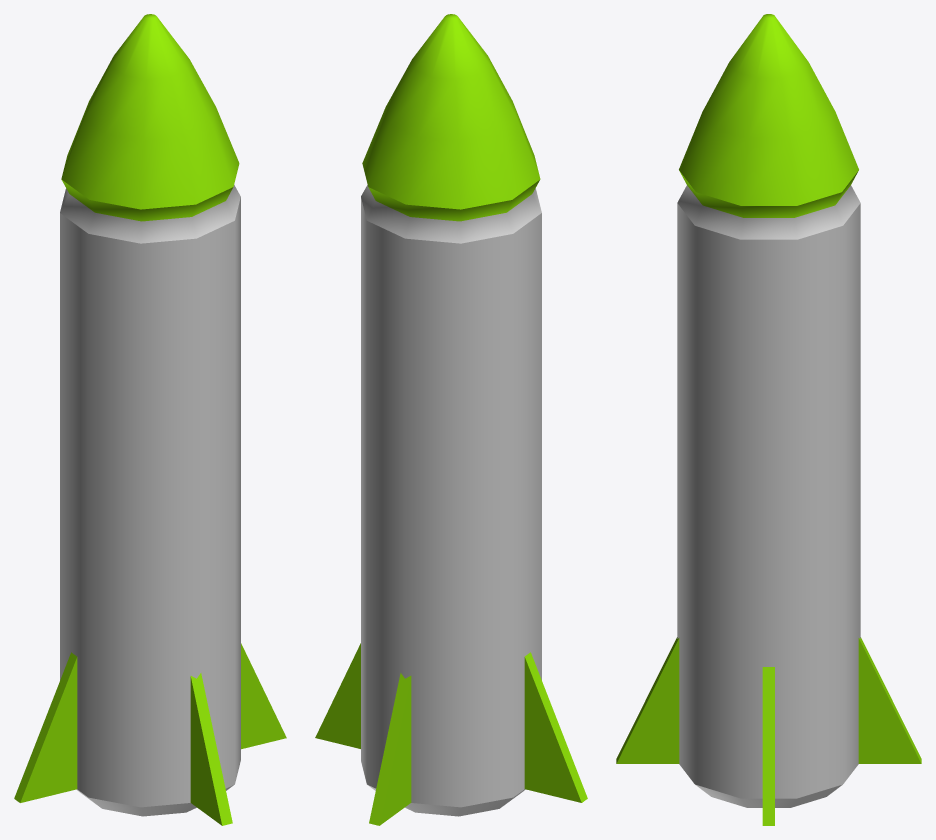
Rendered from Rocket A Mat.fbx.
The picture shows the model from 3 angles, left to right: view 1: azimuth 30°, elevation 25°; view 2: azimuth 150°, elevation 25°; view 3: azimuth 270°, elevation 25°; orthographic projection.
Parts seen in each view (by area): view 1: Rocket A Mat; view 2: Rocket A Mat; view 3: Rocket A Mat.
Boxes of the visible parts, x1,y1,x2,y2 form: Rocket A Mat: (14, 14, 286, 825); Rocket A Mat: (315, 14, 587, 825); Rocket A Mat: (616, 14, 921, 825).
Bounding box in the file's own units: 0.2492 × 0.687 × 0.2492.
